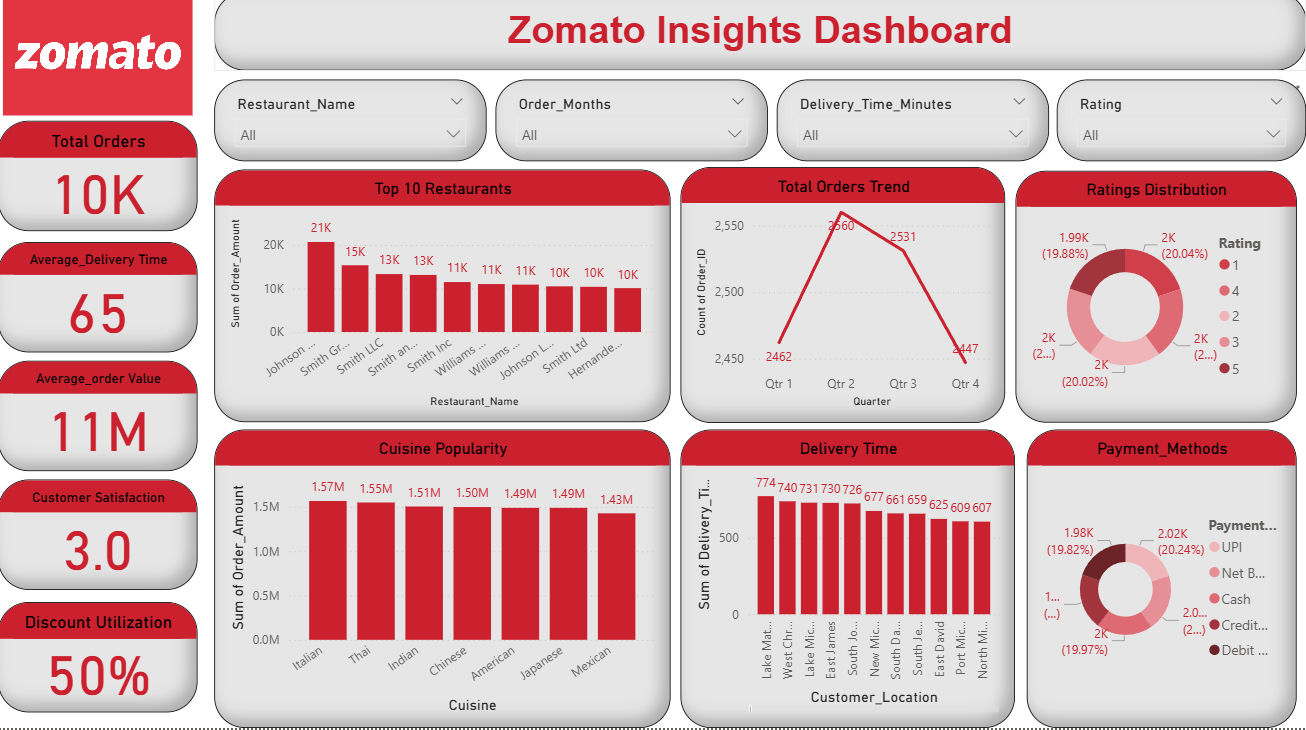

Layout of this report page (visuals, bound fields, positions):
{"tool":"powerbi","page":{"name":"Dashboard","canvas":[1280,720],"ordinal":0},"visuals":[{"type":"slicer","fields":{"Values":["Sheet1.Restaurant_Name"]},"box":[211.5,85.8,266.2,79.6],"z":0,"group":"g1"},{"type":"card","title":"Total Orders","fields":{"Values":["CountNonNull(Sheet1.Order_ID)"]},"box":[0,125.4,195.3,108.3],"z":0,"group":"g3"},{"type":"columnChart","title":"Delivery Time ","fields":{"Category":["Sheet1.Customer_Location"],"Y":["Sum(Sheet1.Delivery_Time_Minutes)"]},"box":[668,427.9,327.2,292.3],"z":0},{"type":"slicer","fields":{"Values":["Sheet1.Order_Date.Variation.Date Hierarchy.Month"]},"box":[486.3,85.8,266.2,79.6],"z":1000,"group":"g1"},{"type":"lineChart","title":"Total Orders Trend ","fields":{"Category":["Sheet1.Order_Date.Variation.Date Hierarchy.Quarter"],"Y":["CountNonNull(Sheet1.Order_ID)"]},"box":[667.5,171.7,318,250],"z":1000,"group":"g2"},{"type":"clusteredColumnChart","title":"Cuisine Popularity ","fields":{"Category":["Sheet1.Cuisine"],"Y":["Sum(Sheet1.Order_Amount)"]},"box":[211.5,427.9,446.6,292.3],"z":1000},{"type":"textbox","box":[211.5,0,1068.6,77.1],"z":2000},{"type":"slicer","fields":{"Values":["Sheet1.Delivery_Time_Minutes"]},"box":[761.2,85.8,266.2,79.6],"z":2000,"group":"g1"},{"type":"image","box":[0,0,195.3,125.6],"z":3000},{"type":"slicer","fields":{"Values":["Sheet1.Rating"]},"box":[1036,85.8,244,79.6],"z":3000,"group":"g1"},{"type":"columnChart","title":"Top  10 Restaurants ","fields":{"Category":["Sheet1.Restaurant_Name"],"Y":["Sum(Sheet1.Order_Amount)"]},"box":[211.5,174.2,446.1,247.5],"z":3000,"group":"g2"},{"type":"group","id":"g1","title":"Group 1","box":[211.5,85.8,1068.6,79.6],"z":4000},{"type":"donutChart","title":"Ratings Distribution ","fields":{"Y":["CountNonNull(Sheet1.Order_ID)"],"Category":["Sheet1.Rating"]},"box":[995.3,175.4,274.8,246.3],"z":4000,"group":"g2"},{"type":"group","id":"g2","title":"Group 2","box":[211.5,171.7,1058.6,250],"z":5000},{"type":"group","id":"g3","title":"Group 3","box":[0,125.4,195.3,578.7],"z":6000},{"type":"card","title":"Average_Delivery Time","fields":{"Values":["Avg(Sheet1.Delivery_Time_Minutes)"]},"box":[0,243.7,195.3,108.3],"z":6000,"group":"g3"},{"type":"donutChart","title":"Payment_Methods","fields":{"Y":["CountNonNull(Sheet1.Payment_Method)"],"Category":["Sheet1.Payment_Method"]},"box":[1006.4,427.9,263.7,292.3],"z":7000},{"type":"card","title":"Customer Satisfaction ","fields":{"Values":["Avg(Sheet1.Rating)"]},"box":[0,476,195.3,108.3],"z":7000,"group":"g3"},{"type":"card","title":"Discount Utilization ","fields":{"Values":["Sheet1.Discount Utilization (%)"]},"box":[0,595.8,195.3,108.3],"z":8000,"group":"g3"},{"type":"card","title":"Average_order Value","fields":{"Values":["Sum(Sheet1.Order_Amount)"]},"box":[0,360.6,195.3,108.3],"z":9000,"group":"g3"}]}

Visuals, with their boxes in screenshot pixels (x1, y1, x2, y2), scaled from the page's 1280x720 canvas onto the 1306x730 screenshot:
slicer - Sheet1.Restaurant_Name: {"x1": 216, "y1": 87, "x2": 487, "y2": 168}
"Total Orders" card: {"x1": 0, "y1": 127, "x2": 199, "y2": 237}
"Delivery Time " columnChart: {"x1": 682, "y1": 434, "x2": 1015, "y2": 729}
slicer - Sheet1.Order_Date.Variation.Date Hierarchy.Month: {"x1": 496, "y1": 87, "x2": 768, "y2": 168}
"Total Orders Trend " lineChart: {"x1": 681, "y1": 174, "x2": 1006, "y2": 428}
"Cuisine Popularity " clusteredColumnChart: {"x1": 216, "y1": 434, "x2": 671, "y2": 729}
textbox: {"x1": 216, "y1": 0, "x2": 1305, "y2": 78}
slicer - Sheet1.Delivery_Time_Minutes: {"x1": 777, "y1": 87, "x2": 1048, "y2": 168}
image: {"x1": 0, "y1": 0, "x2": 199, "y2": 127}
slicer - Sheet1.Rating: {"x1": 1057, "y1": 87, "x2": 1305, "y2": 168}
"Top  10 Restaurants " columnChart: {"x1": 216, "y1": 177, "x2": 671, "y2": 428}
"Group 1" group: {"x1": 216, "y1": 87, "x2": 1305, "y2": 168}
"Ratings Distribution " donutChart: {"x1": 1016, "y1": 178, "x2": 1296, "y2": 428}
"Group 2" group: {"x1": 216, "y1": 174, "x2": 1296, "y2": 428}
"Group 3" group: {"x1": 0, "y1": 127, "x2": 199, "y2": 714}
"Average_Delivery Time" card: {"x1": 0, "y1": 247, "x2": 199, "y2": 357}
"Payment_Methods" donutChart: {"x1": 1027, "y1": 434, "x2": 1296, "y2": 729}
"Customer Satisfaction " card: {"x1": 0, "y1": 483, "x2": 199, "y2": 592}
"Discount Utilization " card: {"x1": 0, "y1": 604, "x2": 199, "y2": 714}
"Average_order Value" card: {"x1": 0, "y1": 366, "x2": 199, "y2": 475}
